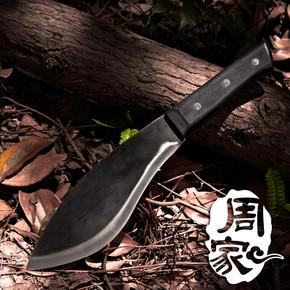knife: (21, 37, 280, 277)
